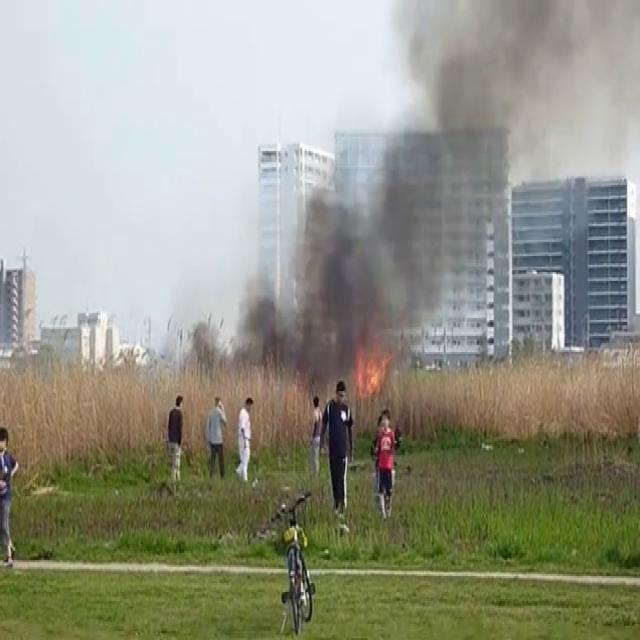Fire: (351, 336, 394, 406)
Smoke: (250, 0, 640, 368)
